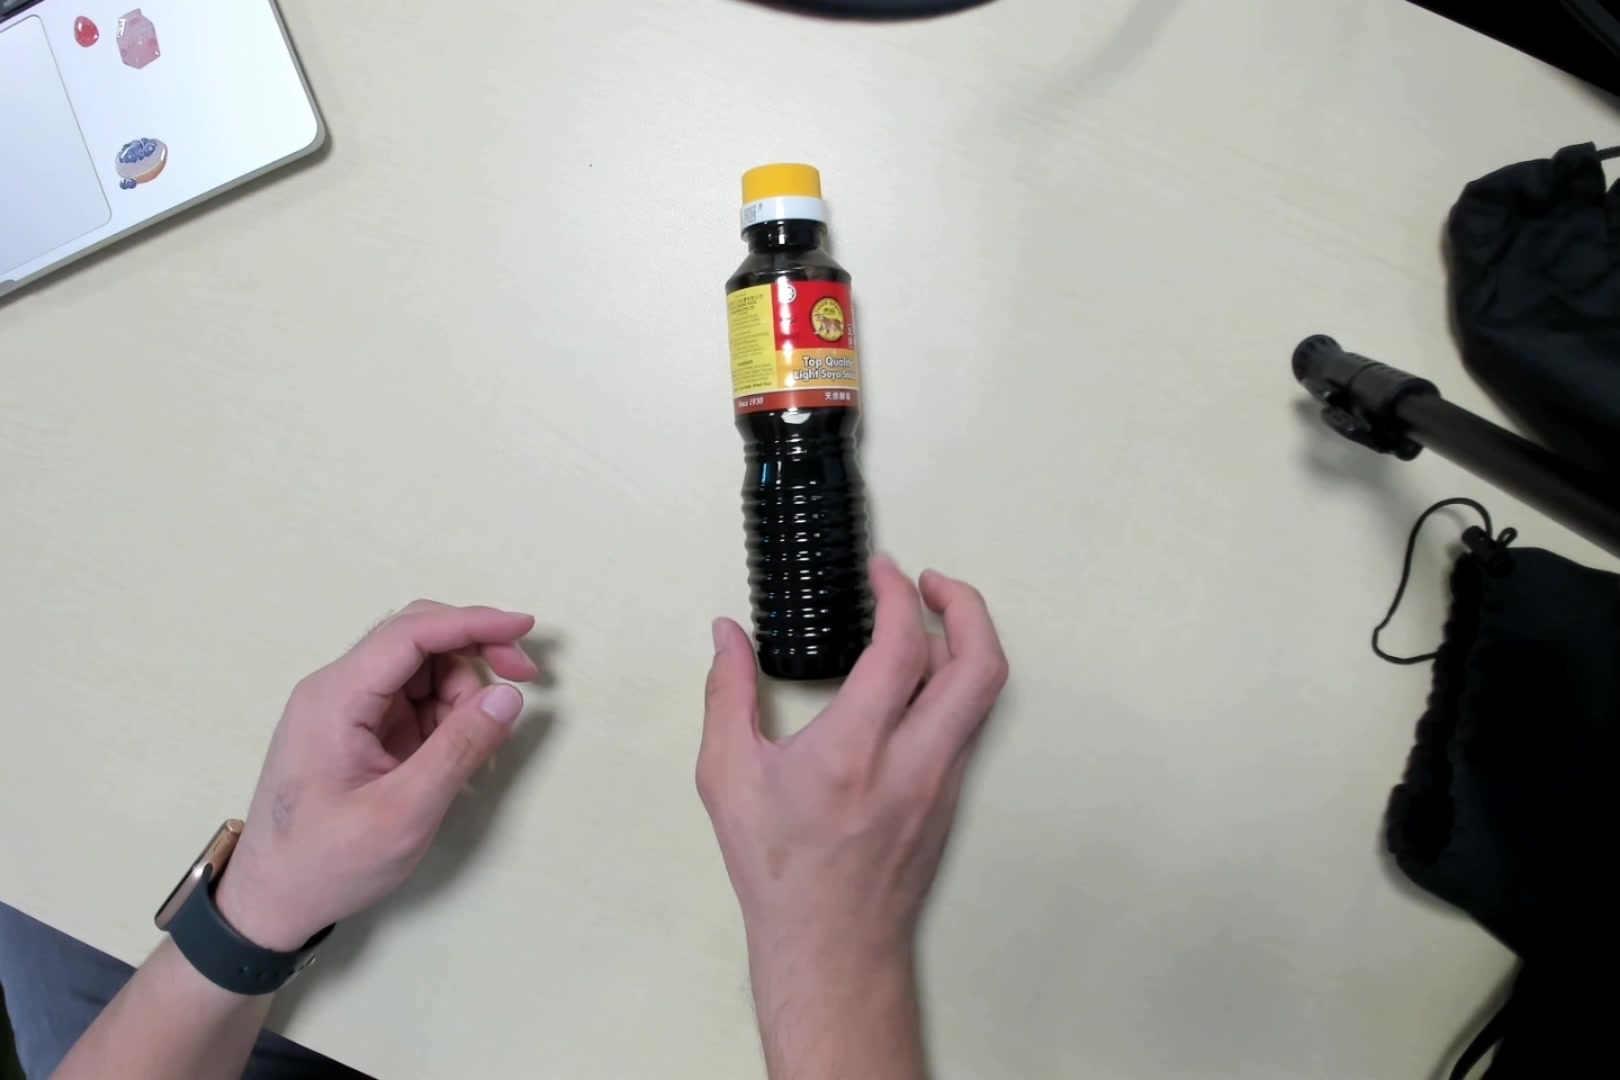LightSoySauce_300-399g_Halal_NonHealthy: (723, 159, 877, 699)
